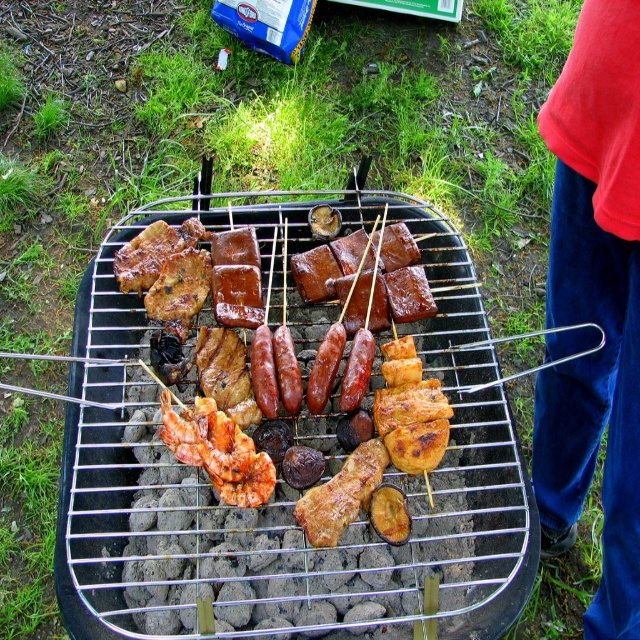Shrimp: (158, 388, 276, 508)
